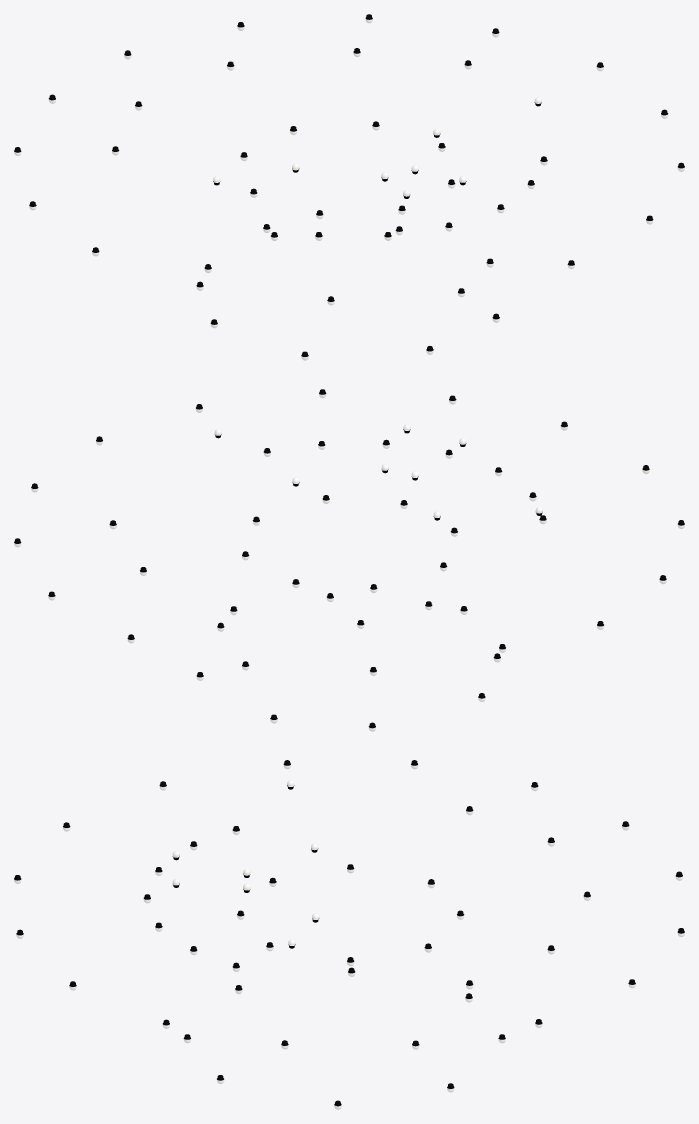
File: biglampallinone.glb
3 views of the same model, one above another, from view 1: azimuth 30°, elevation 25°; view 2: azimuth 150°, elevation 25°; view 3: azimuth 270°, elevation 25° (orthographic).
Parts seen in each view (by area): view 1: BigLamp; view 2: BigLamp; view 3: BigLamp.
Boxes of the visible parts, x1,y1,x2,y2 form: BigLamp: [14, 14, 684, 360]; BigLamp: [14, 389, 684, 731]; BigLamp: [14, 760, 684, 1109].
Size of what is drawn, in the model's own units: 40.21 by 12.06 by 40.21.
2 materials, 1 textured.
